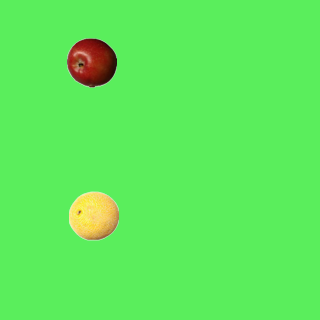Apple Braeburn: (66, 37, 116, 87)
Cantaloupe 1: (68, 190, 118, 240)
